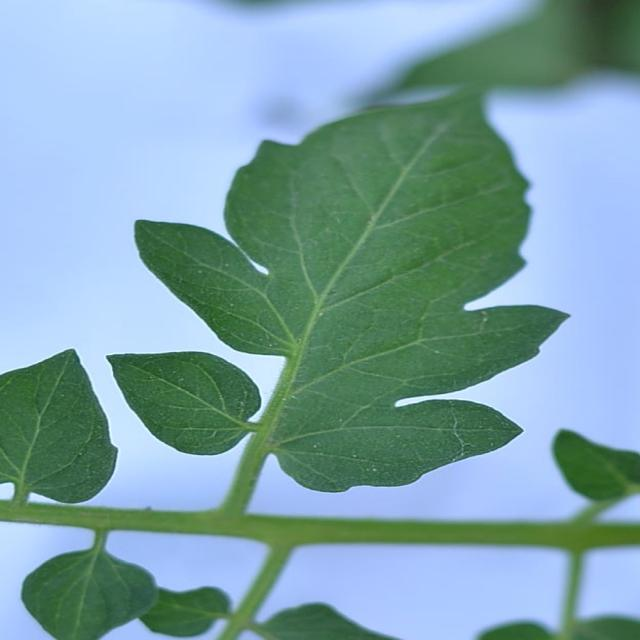healthy: (100, 75, 575, 496), (11, 524, 154, 640)
